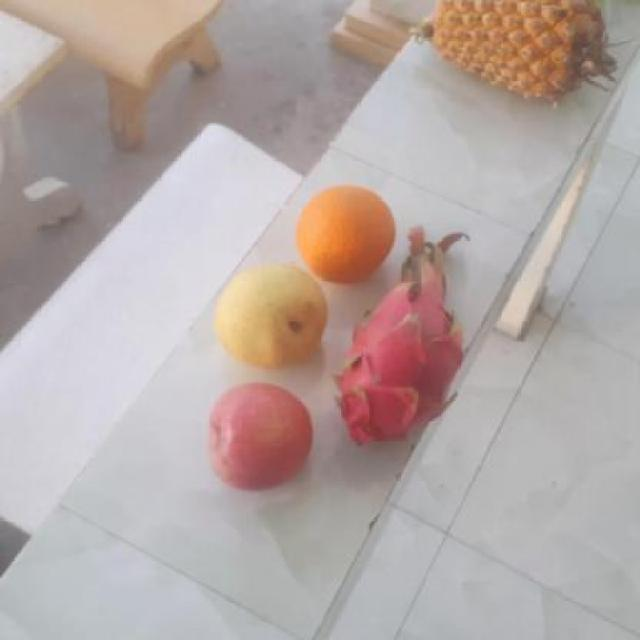apple: (203, 381, 320, 492)
dragon fruit: (328, 264, 463, 448)
oren: (291, 184, 398, 282)
pear: (208, 262, 330, 369)
